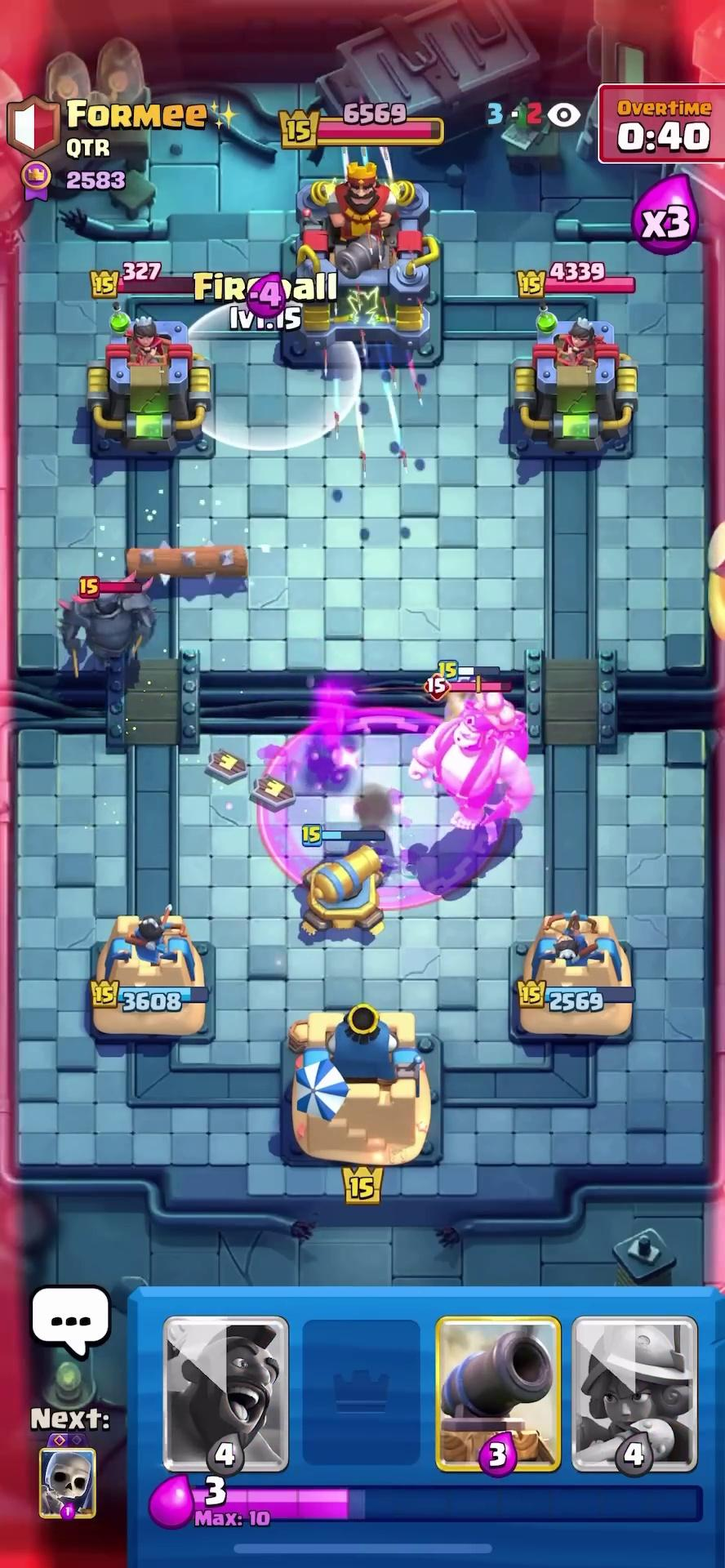cannon: (290, 825, 394, 941)
ice_golem: (429, 657, 518, 731)
log: (106, 531, 265, 592)
